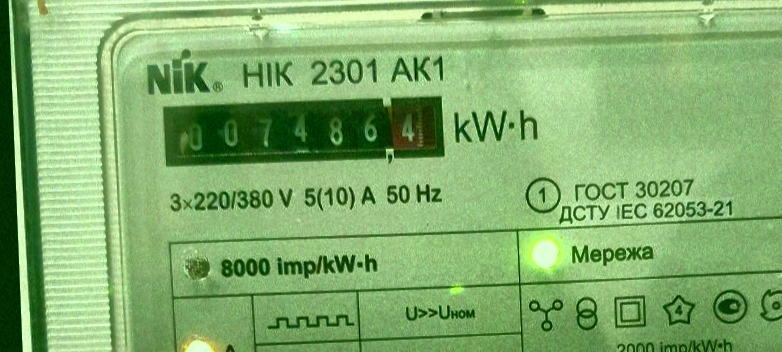0: (183, 118, 204, 153), (220, 114, 239, 148)
4: (289, 109, 308, 144), (397, 109, 415, 144)
6: (360, 111, 380, 144)
7: (252, 114, 276, 148)
8: (326, 113, 344, 149)
screen: (152, 83, 453, 179)
